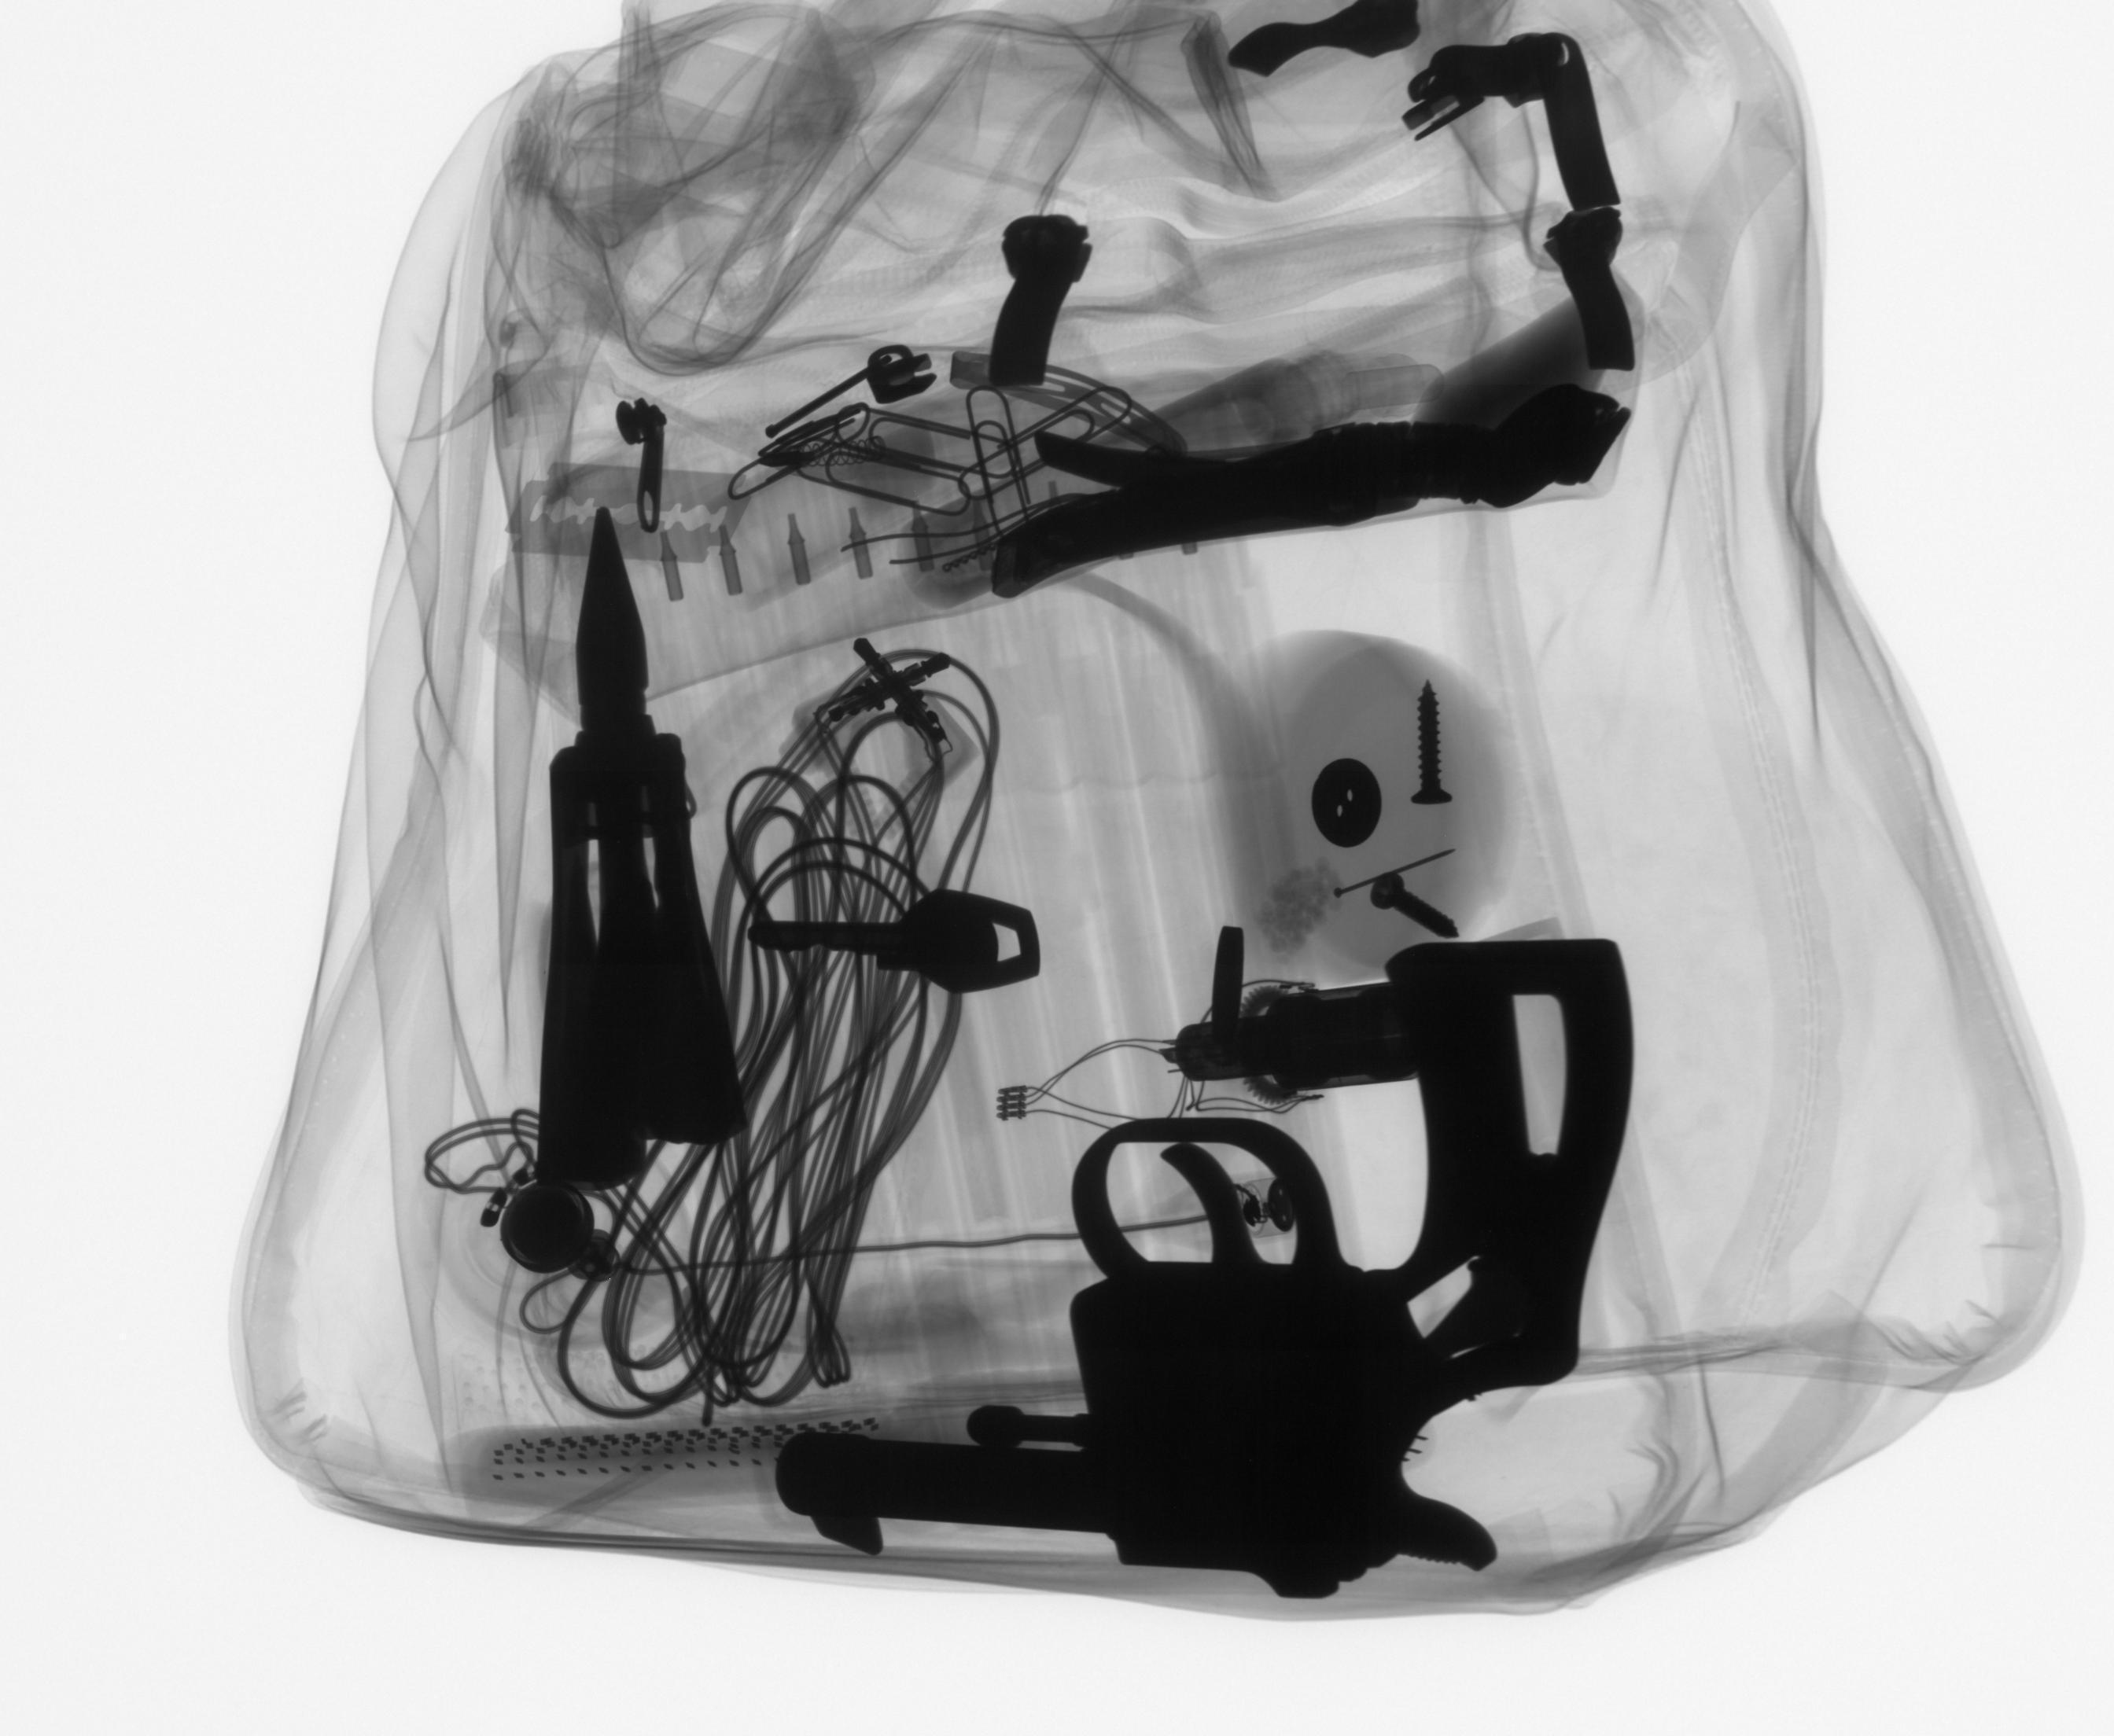Handgun: (760, 925, 1641, 1610)
RazorBlade: (499, 459, 761, 571)
